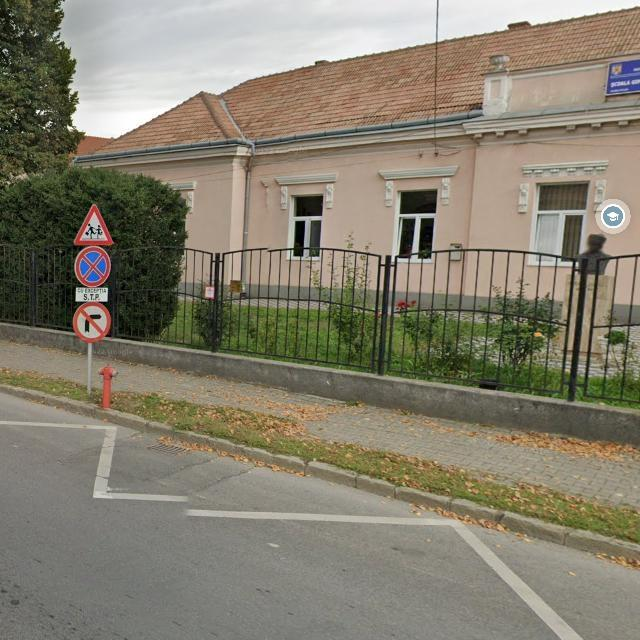forb_waiting: (74, 246, 111, 287)
